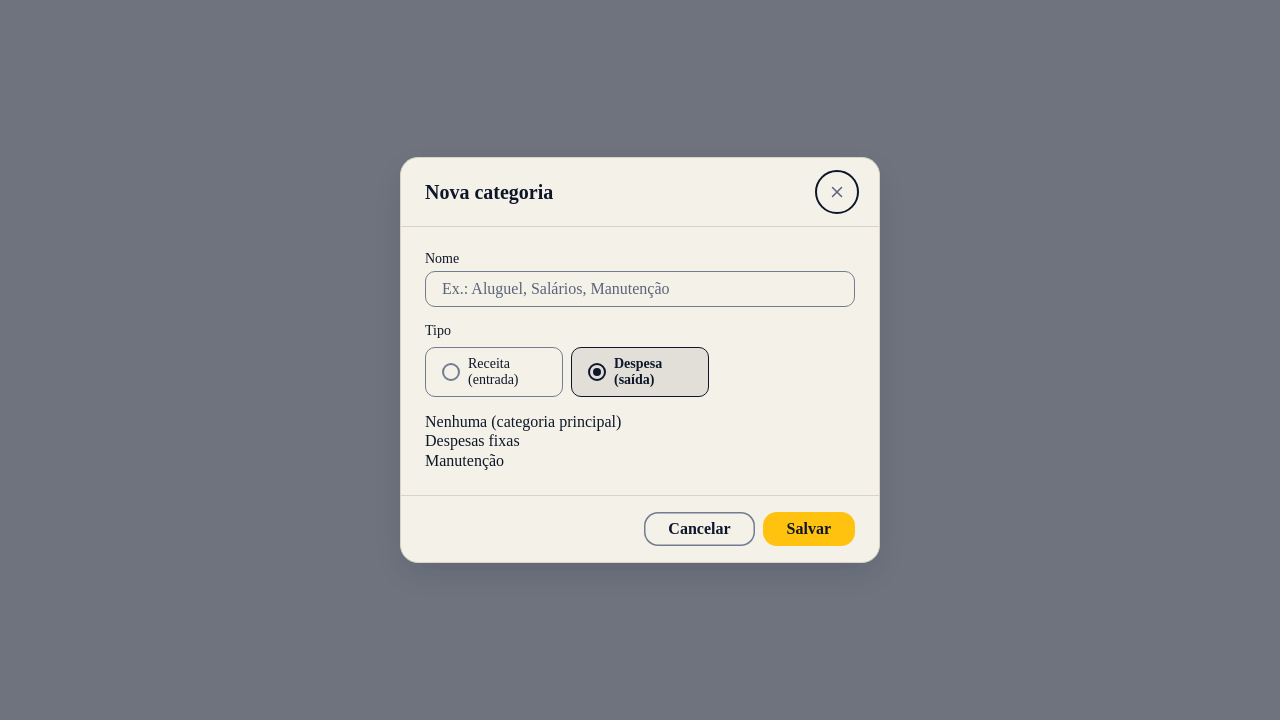
Test: CategoriaModal: cadastro › não envia sem nome e mostra o erro no campo
Click the button "Salvar" at (809, 529), box [762, 512, 855, 546]
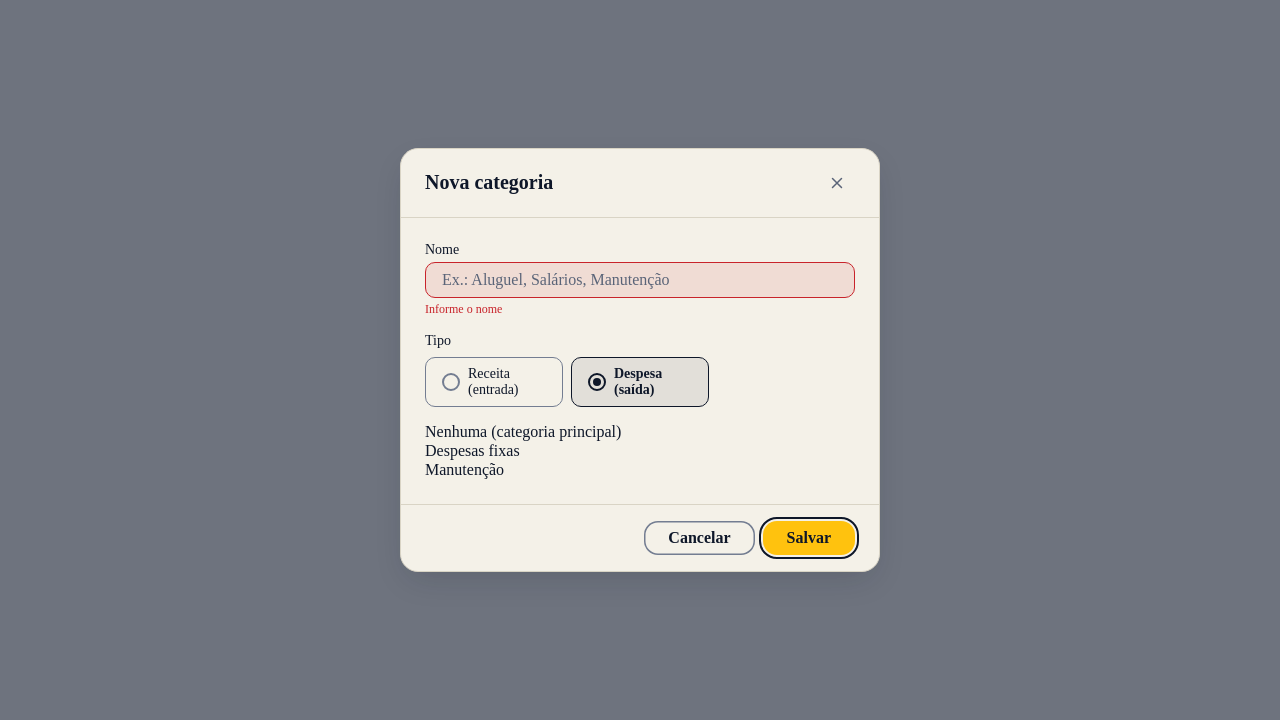
Result: the text "Informe o nome" is shown at [425, 302, 502, 316]
